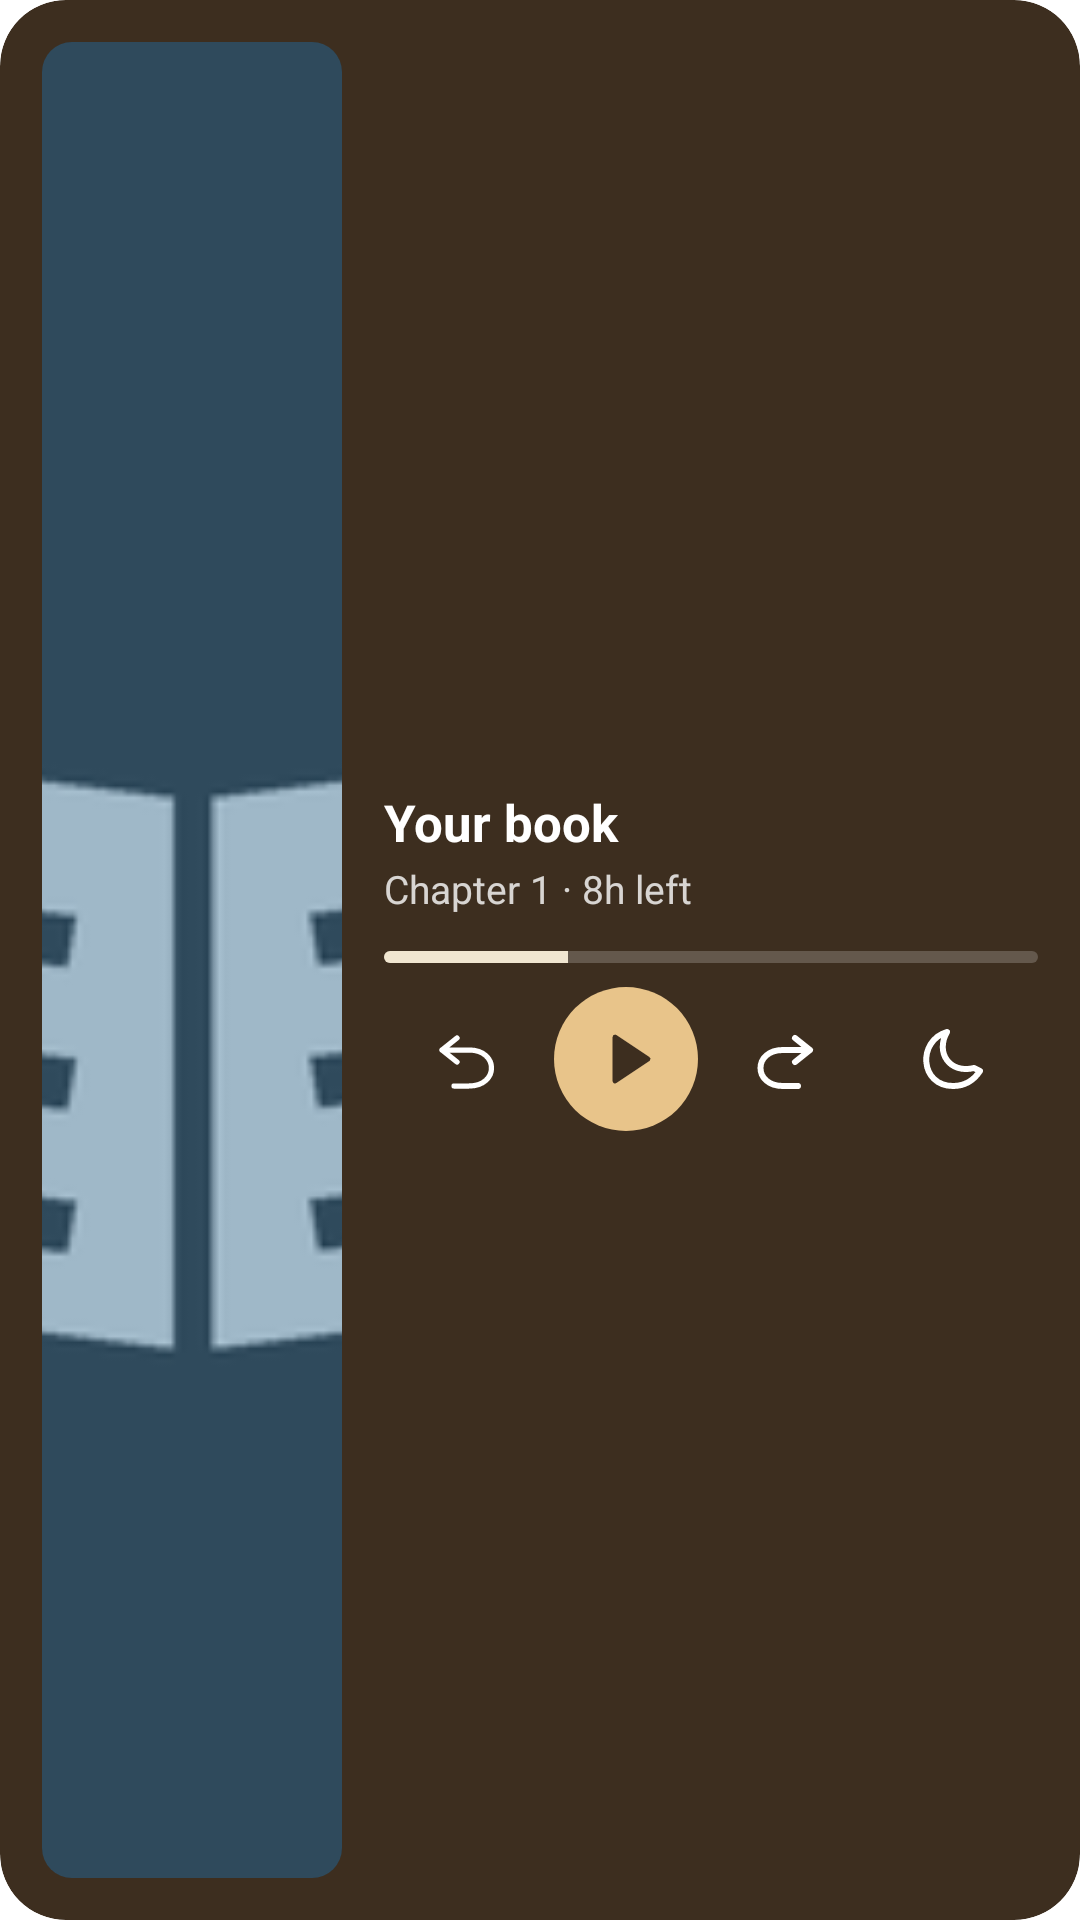

Icon click points for this 1080px x 1920px phone screenshot, format point (x, y):
Forward: point (785, 1062)
Rewind: point (466, 1062)
Sleep timer, 30 minutes: point (953, 1059)
